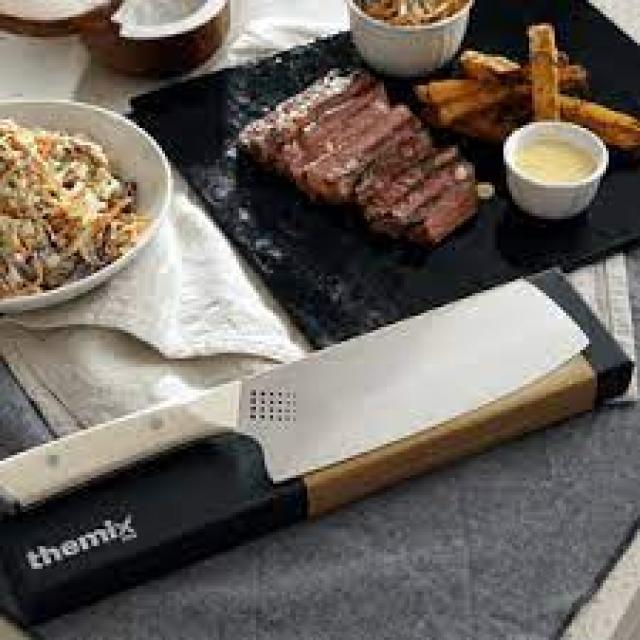cleaver: (0, 270, 589, 498)
